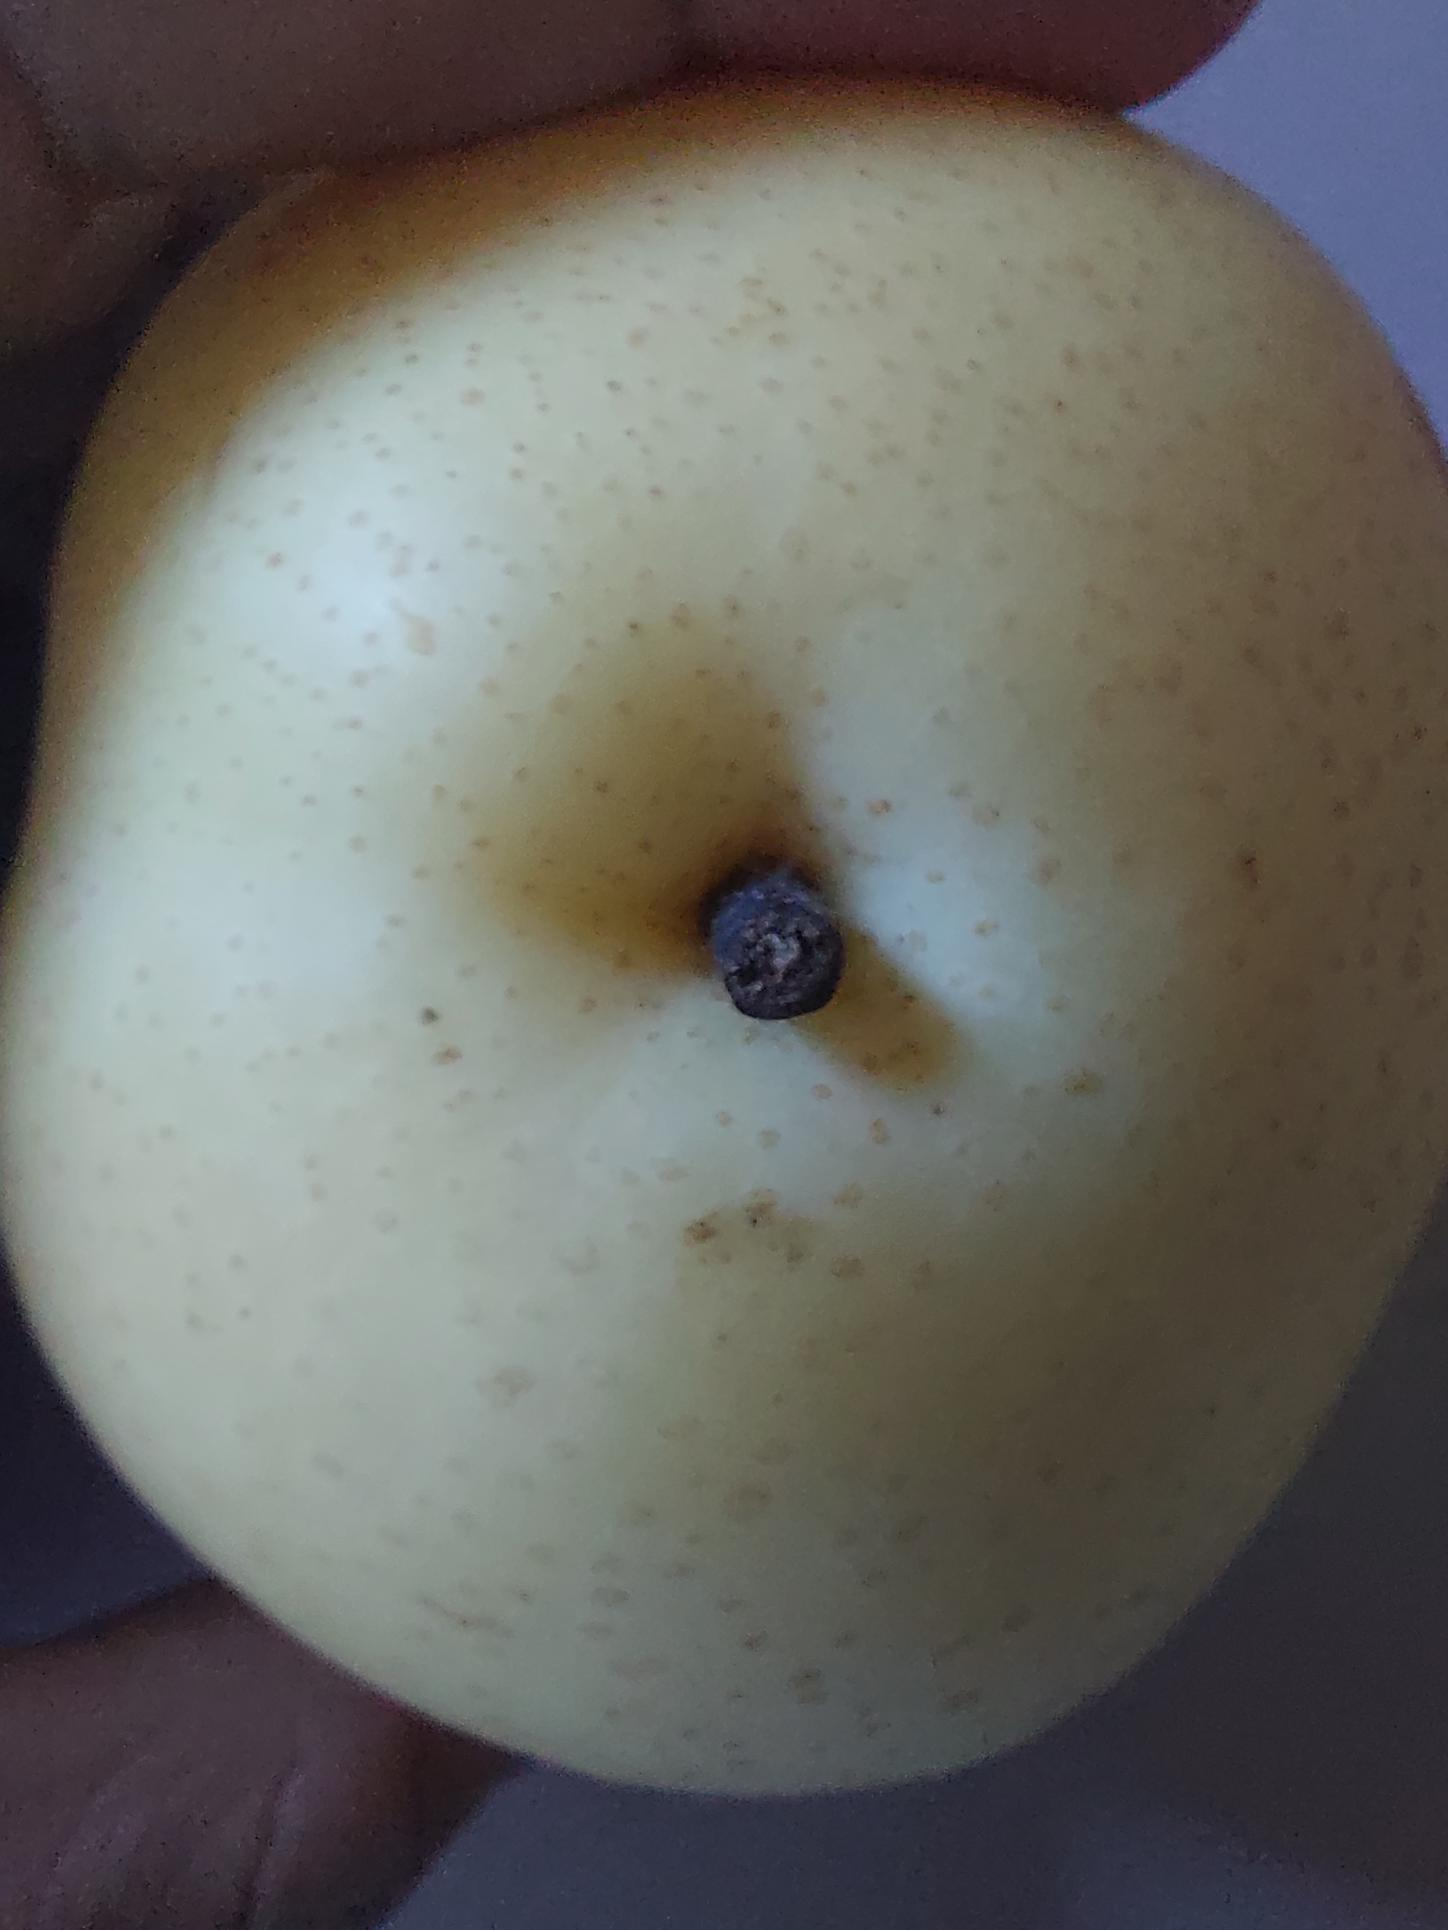Good Pear: (0, 75, 1448, 1789)
